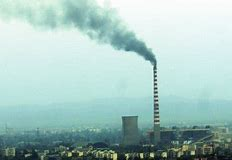smoke: (71, 1, 157, 66)
